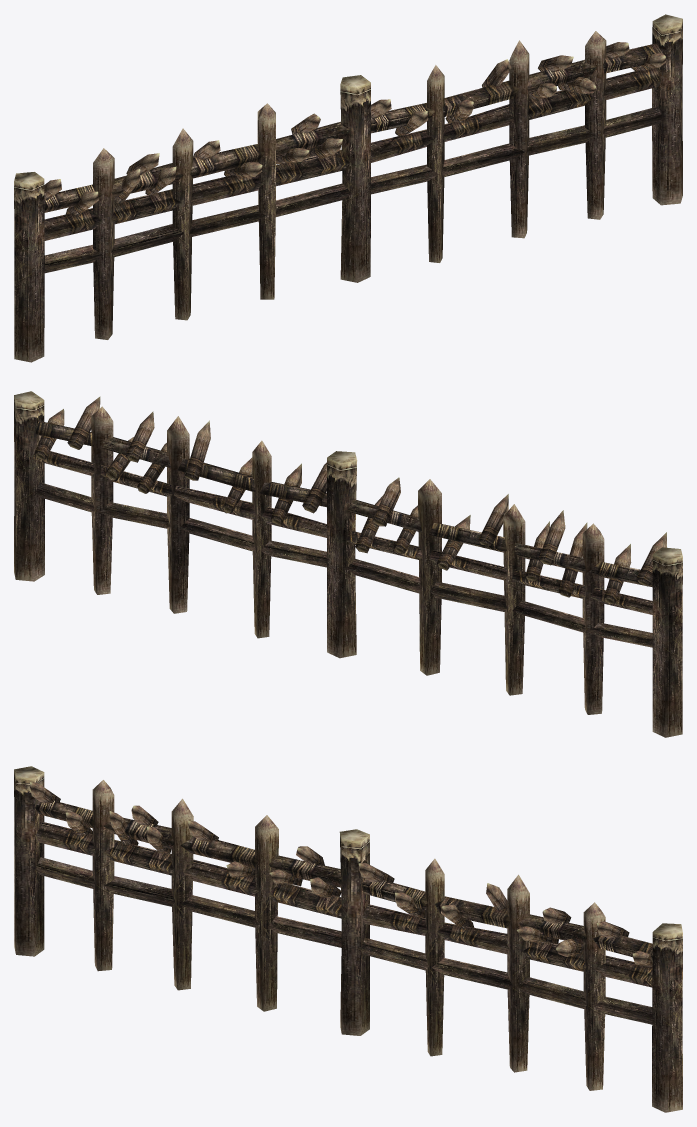
The model's file is monster_91201.glb.
3 renders of one model, top to bottom at view 1: azimuth 30°, elevation 25°; view 2: azimuth 150°, elevation 25°; view 3: azimuth 330°, elevation 25°, orthographic.
Visible parts, largest first — view 1: CM_02_912_01; view 2: CM_02_912_01; view 3: CM_02_912_01.
Part boxes in pixels (bbox=[...]): CM_02_912_01: bbox=[14, 14, 682, 362]; CM_02_912_01: bbox=[14, 391, 682, 737]; CM_02_912_01: bbox=[14, 766, 682, 1112].
Bounding box in the file's own units: 17.88 × 5.09 × 1.66.
1 material, 1 textured.
